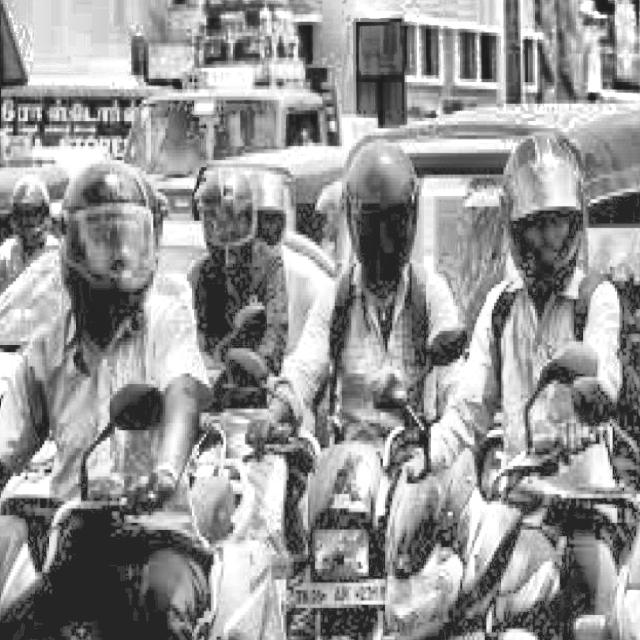Helmet: (50, 151, 162, 320), (334, 122, 434, 297), (496, 128, 595, 297), (194, 158, 270, 262), (3, 166, 56, 242)
